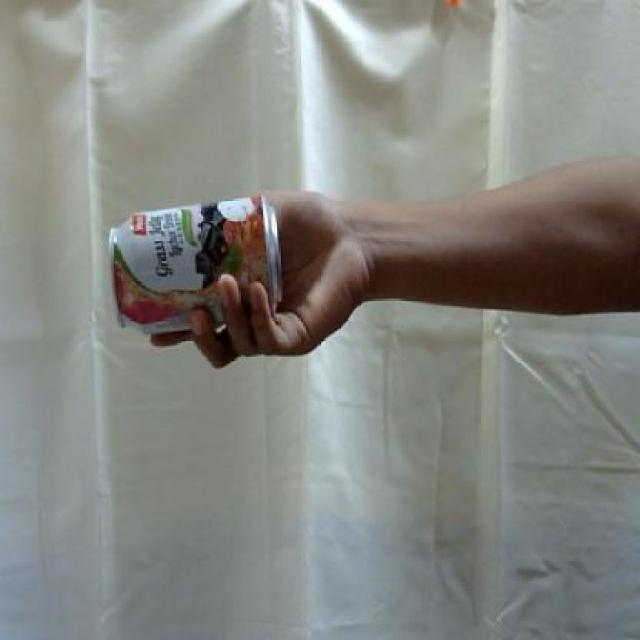Metal: (107, 190, 284, 327)
